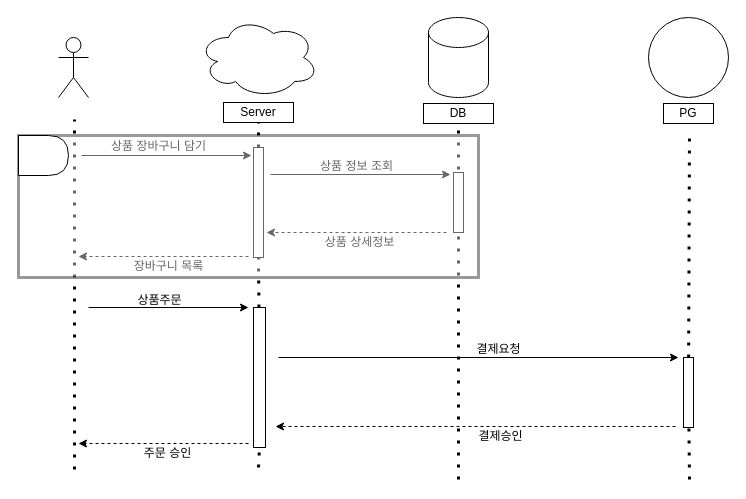
The diagram is 746 pixels wide and 499 high, and some of its shapes have lost their labels. Each missing label, with the centre of its shape:
"loop" goes at point 43,155.
"USER" goes at point 73,67.
